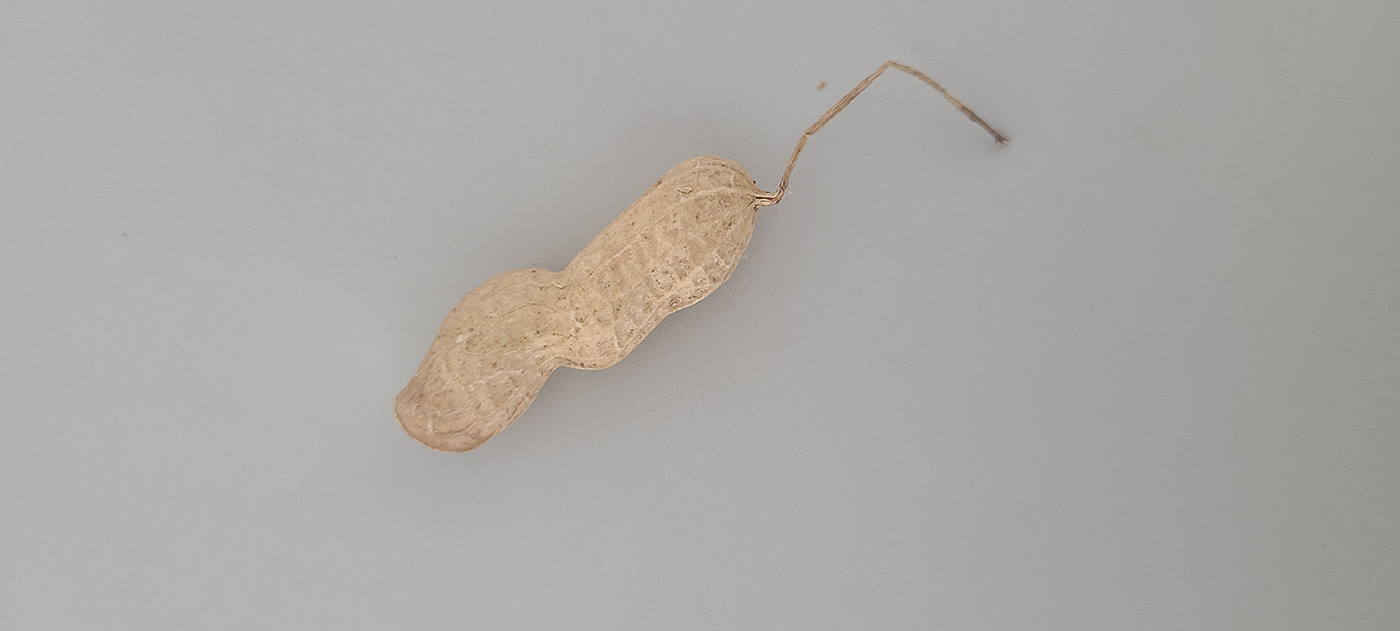h: (391, 154, 764, 457)
